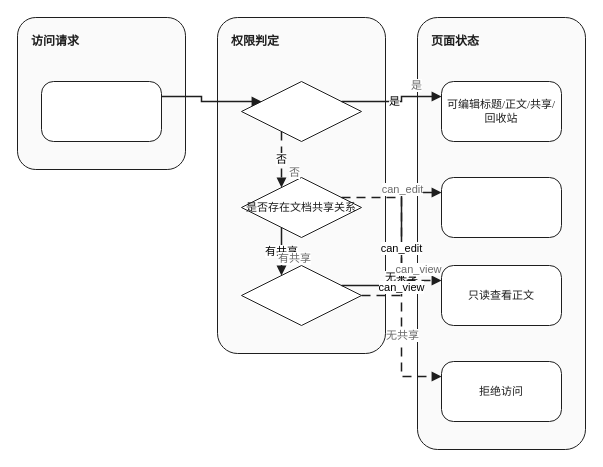
This 603x467 diagram has some shape labels left out. The shapes that lost their labels are listed below. From the top down, each one's centre as x and y in pixels, then its label:
(x=101, y=111): 用户打开文档
(x=301, y=111): 是否为工作区owner
(x=501, y=207): 可编辑正文
(x=301, y=295): 判断can_edit或can_view
